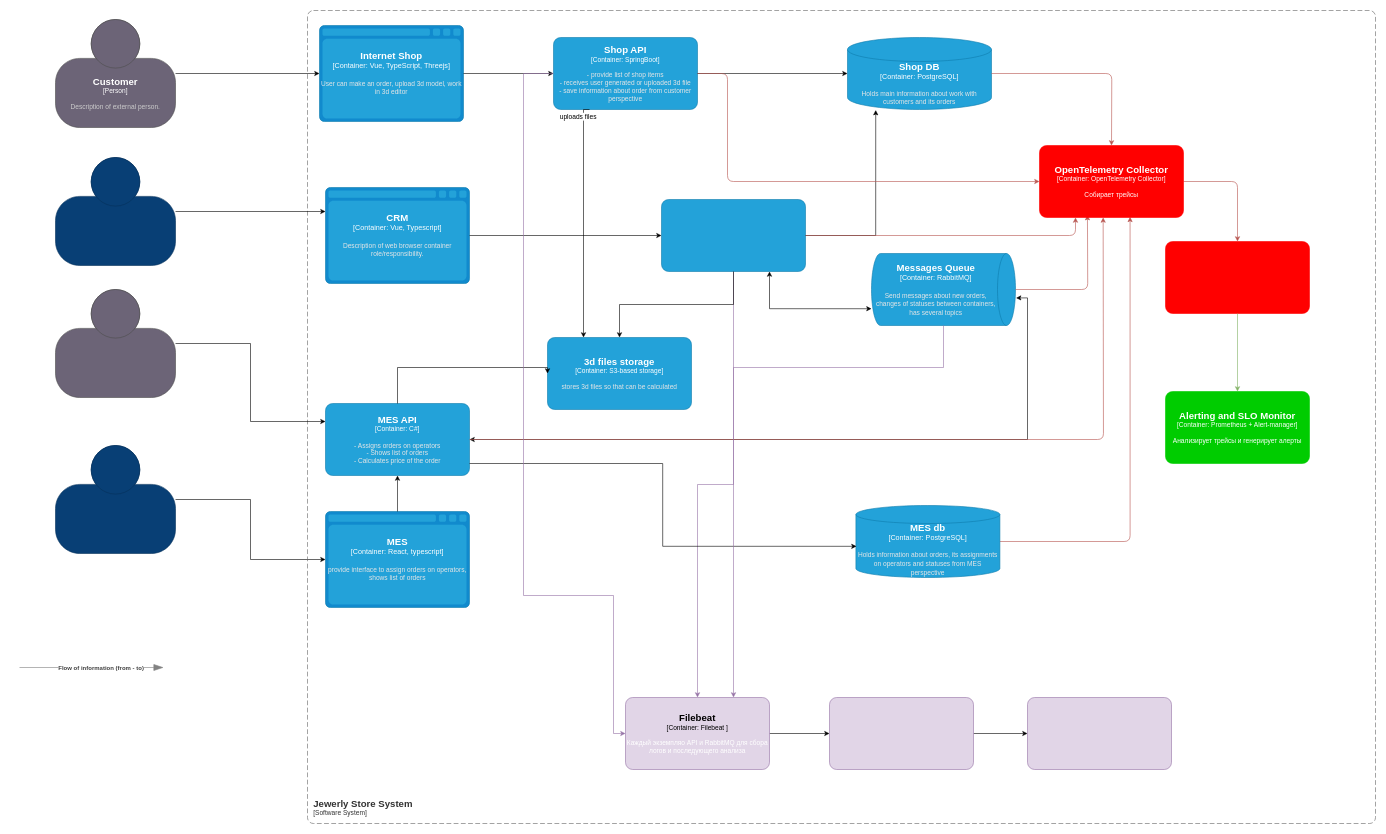
The diagram is 1386 pixels wide and 834 high, and some of its shapes have lost their labels. The shapes that lost their labels are listed below. From the top down, each one's centre as x and y in pixels, then its label:
At (115,211): "Seller [Person] Operates with order, confirms manufacturing for the user".
At (733,235): "CRM API [Container: SpringBoot] Description of container role/responsibility.".
At (1237,277): "Jaeger [Container: Jaeger] UI и хранилище трейсов".
At (115,343): "API user [Person] Description of external person.".
At (115,499): "Operator [Person] Takes order in work, manufactures jewerly".
At (901,733): "OpenSearch [Container: OpenSearch] хранение данных и индексация результатов".
At (1099,733): "Kibana [Container: Kibana] Анализ и поиск визуальный".
